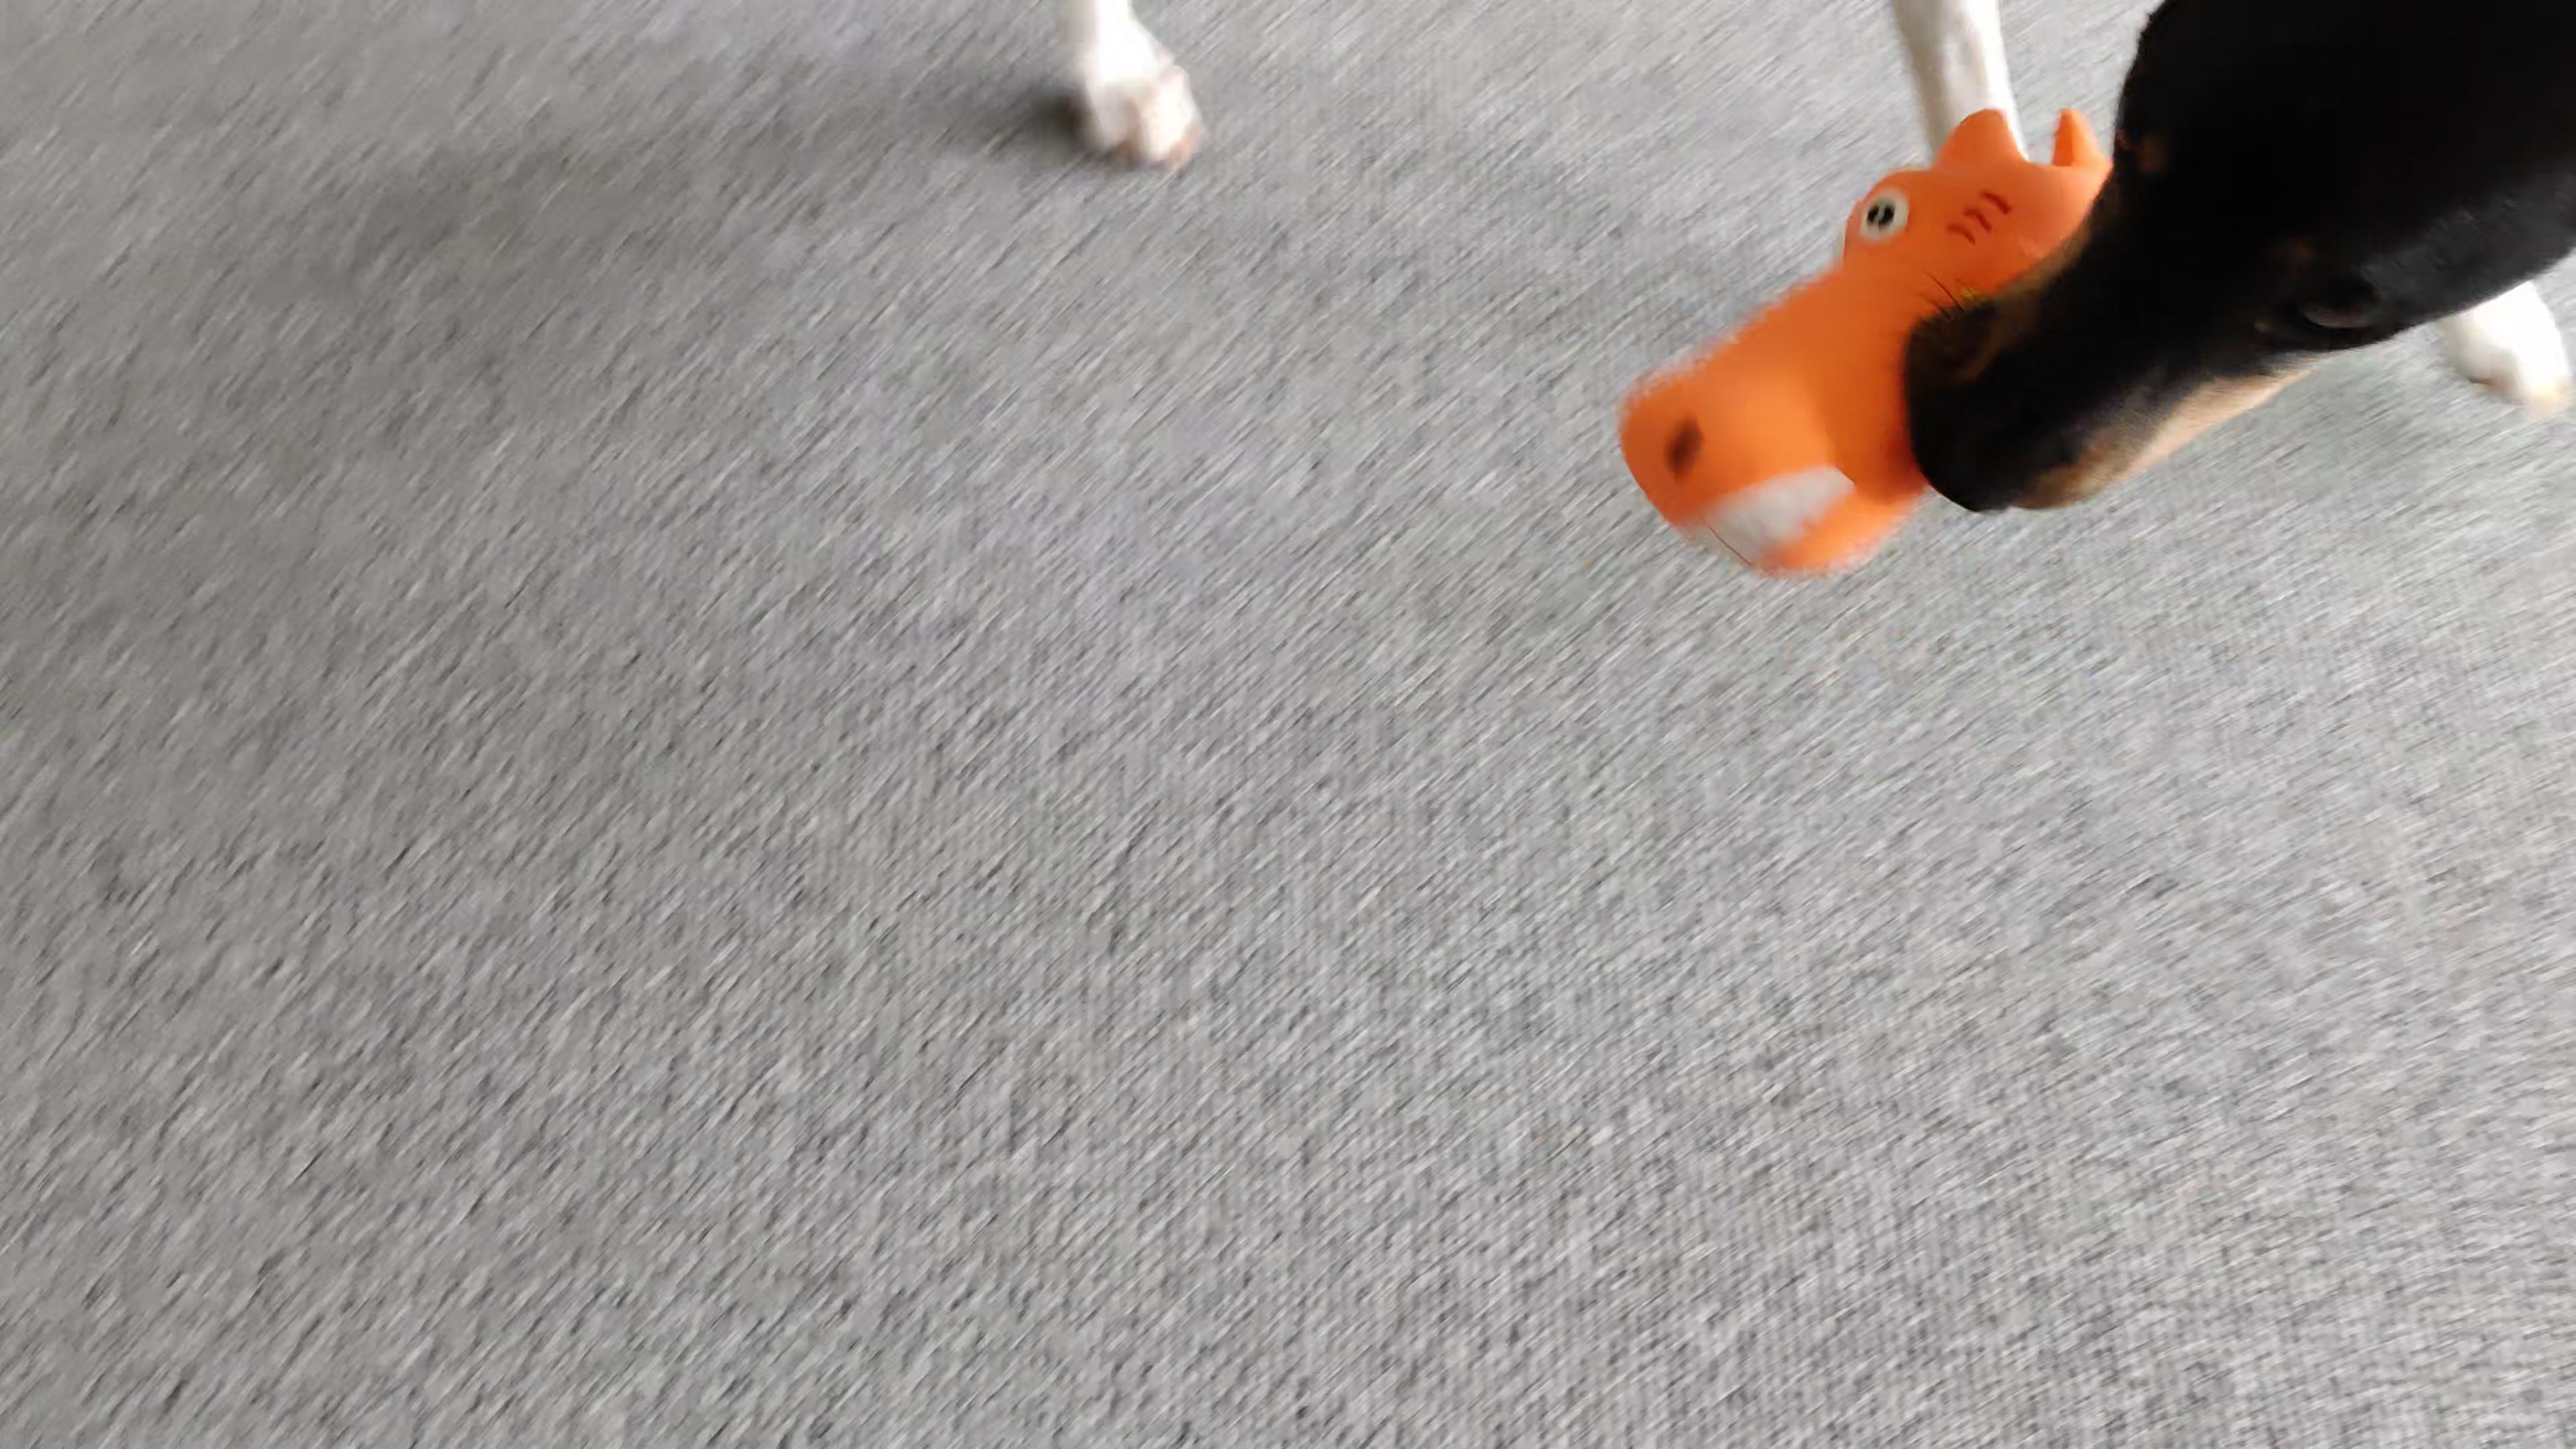Dog: (1037, 0, 2576, 522)
